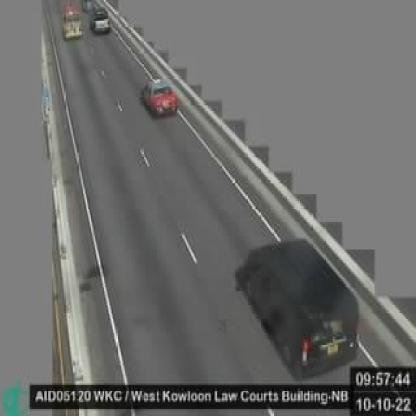Car: (238, 240, 360, 377), (142, 77, 179, 118), (90, 11, 110, 34)
Minibus: (64, 3, 83, 41)
